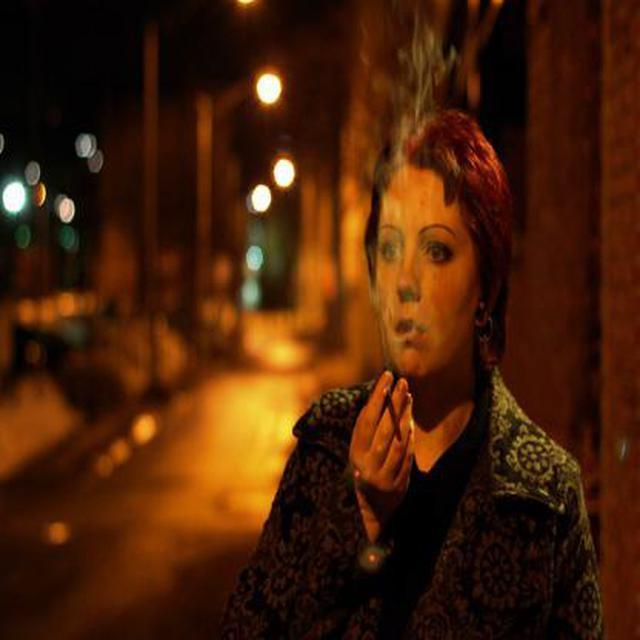smoking: (382, 385, 392, 404)
